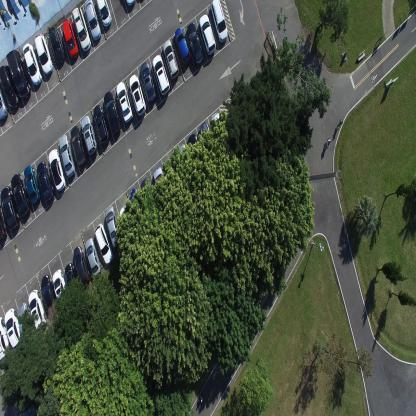car: (5, 49, 30, 99), (71, 6, 91, 52), (10, 172, 30, 217), (0, 64, 19, 110), (186, 21, 204, 69), (40, 273, 58, 321), (22, 43, 42, 86), (4, 307, 23, 352), (28, 288, 47, 333), (103, 90, 121, 136), (34, 33, 53, 76), (94, 223, 113, 266), (84, 236, 102, 281), (198, 12, 216, 56), (58, 134, 76, 178), (0, 186, 18, 230), (210, 0, 228, 43), (152, 53, 170, 96), (48, 148, 66, 191), (72, 245, 90, 288), (128, 74, 146, 116), (80, 115, 98, 157), (83, 0, 101, 42), (173, 27, 191, 68), (36, 162, 54, 203), (52, 268, 70, 309), (152, 166, 170, 206), (70, 124, 87, 166), (17, 302, 34, 344), (140, 60, 156, 104), (116, 80, 132, 124), (105, 205, 121, 249), (162, 39, 179, 80), (64, 262, 81, 303), (62, 19, 79, 58), (93, 105, 109, 146), (24, 164, 40, 205), (48, 25, 64, 66), (198, 122, 216, 158), (176, 144, 193, 182), (187, 132, 204, 168), (130, 188, 146, 226), (140, 178, 156, 216), (211, 112, 228, 146), (119, 204, 136, 237), (0, 316, 13, 359), (94, 0, 113, 29), (0, 86, 8, 122), (0, 207, 7, 241), (124, 0, 136, 8)
